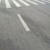zebra: (5, 1, 50, 8)
